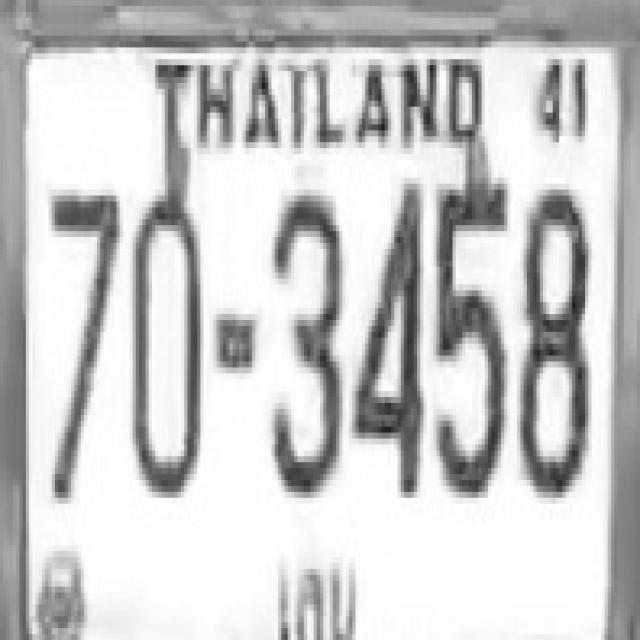0: (130, 178, 200, 492)
3: (267, 189, 341, 492)
4: (351, 178, 422, 492)
5: (431, 172, 506, 492)
7: (47, 186, 118, 494)
8: (517, 184, 585, 492)
LEI: (262, 547, 360, 640)
